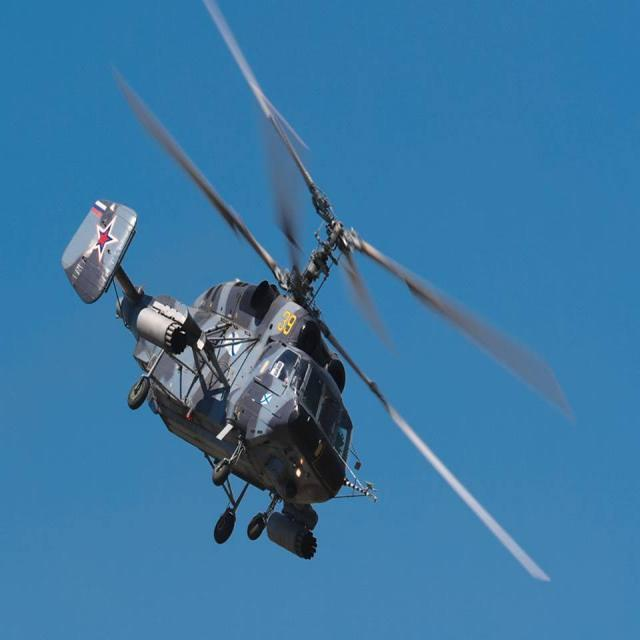MIL_HELO: (56, 0, 565, 610)
